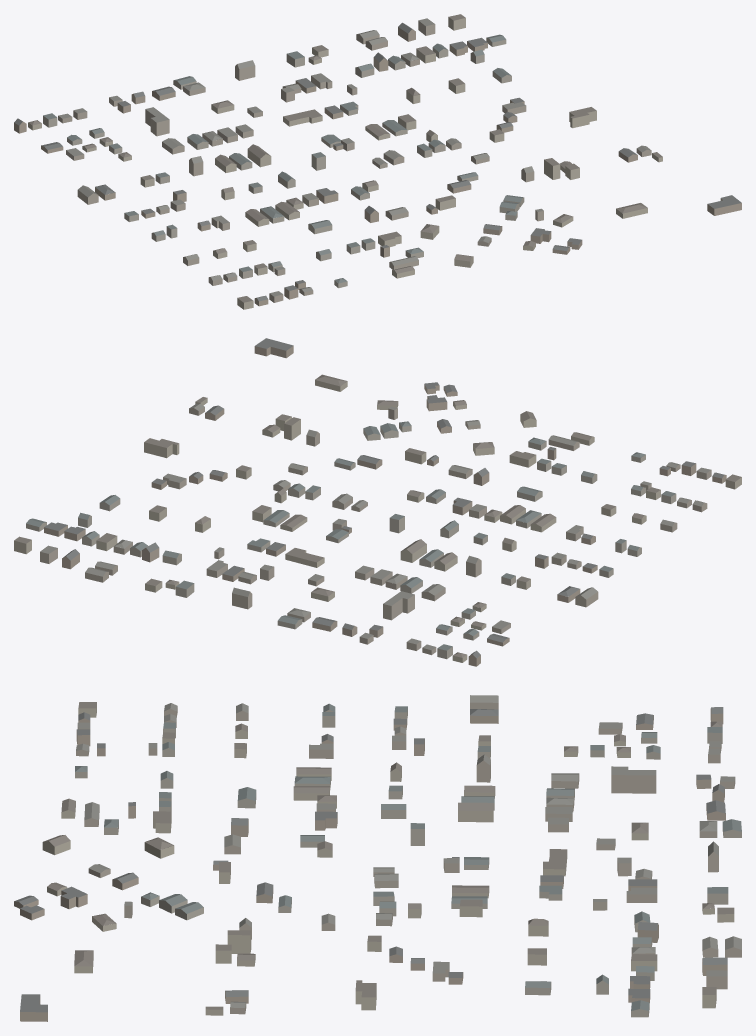
File: 85576e68a39e-chunk-1197_11842.glb
3 views of the same model, one above another, from view 1: azimuth 30°, elevation 25°; view 2: azimuth 150°, elevation 25°; view 3: azimuth 270°, elevation 25° (orthographic). The views are drawn at different scales.
Visible parts, largest first — view 1: building_119216, building_100908; view 2: building_119216, building_100908, building_89964; view 3: building_119216, building_55010, building_100908, building_89964, building_59194, building_465.
Boxes of the visible parts, x1,y1,x2,y2 form: building_119216: [145, 107, 169, 136]; building_100908: [707, 195, 741, 215]; building_119216: [383, 591, 414, 620]; building_100908: [254, 338, 293, 358]; building_89964: [144, 438, 179, 458]; building_119216: [611, 766, 656, 793]; building_55010: [458, 802, 493, 822]; building_100908: [20, 994, 47, 1021]; building_89964: [355, 980, 376, 1010]; building_59194: [543, 849, 567, 876]; building_465: [227, 930, 251, 953].
Size of the model in its own units: 397 by 12.9 by 387.
